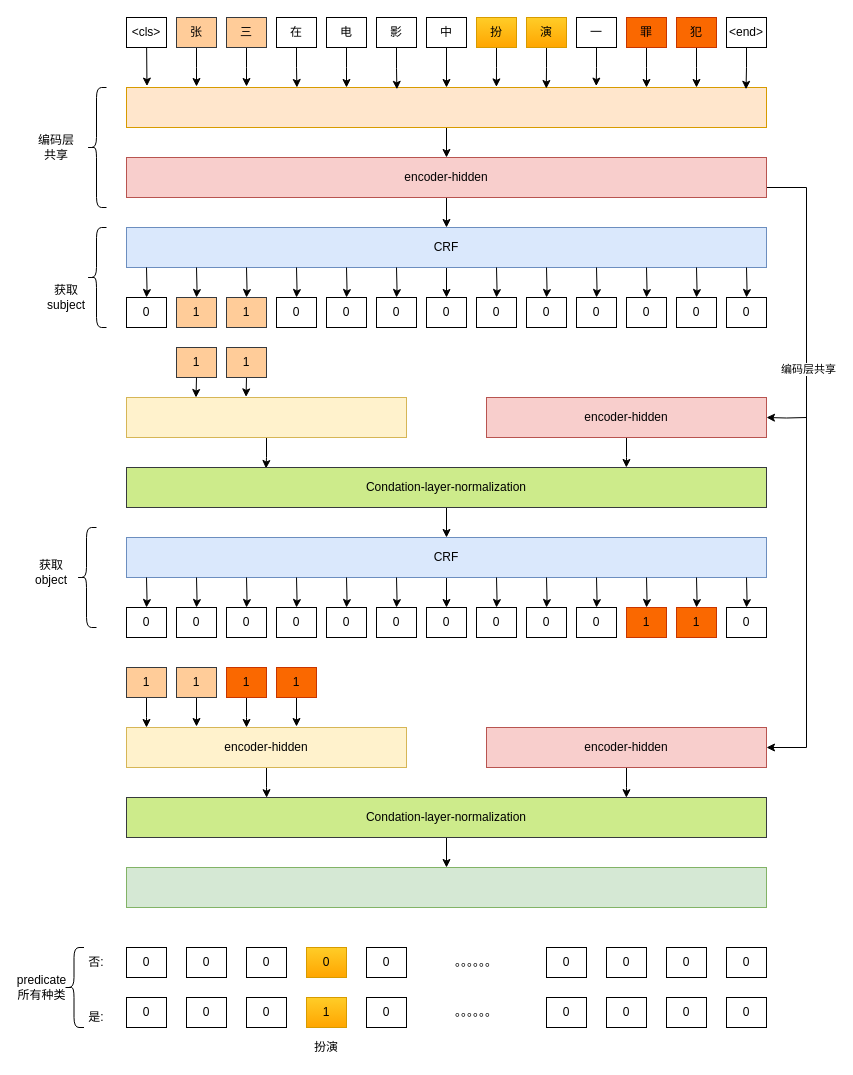
The diagram is 853 pixels wide and 1075 high, and some of its shapes have lost their labels. The centre of each missing label's shape, as x and y in pixels:
"Bert" belongs at pixel 446 107.
"Concatenate" belongs at pixel 266 417.
"dense" belongs at pixel 446 887.
